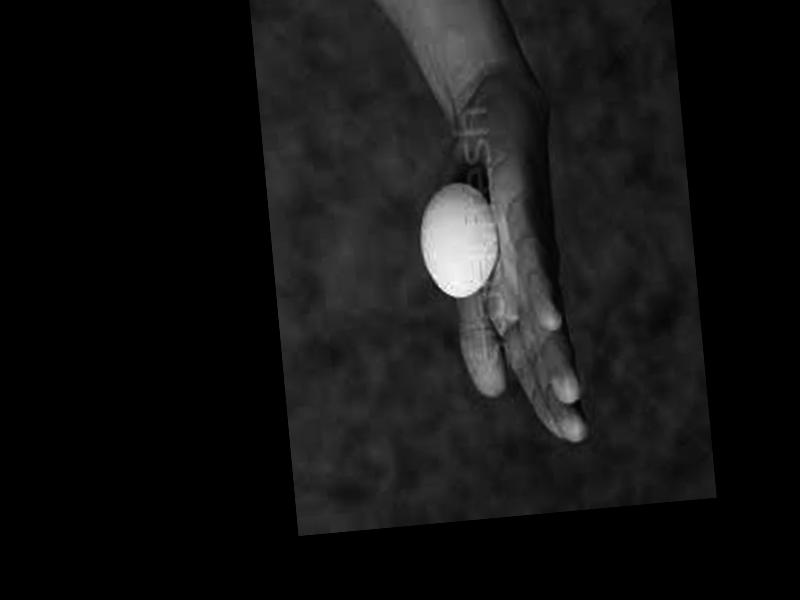Eggs: (413, 179, 502, 300)
